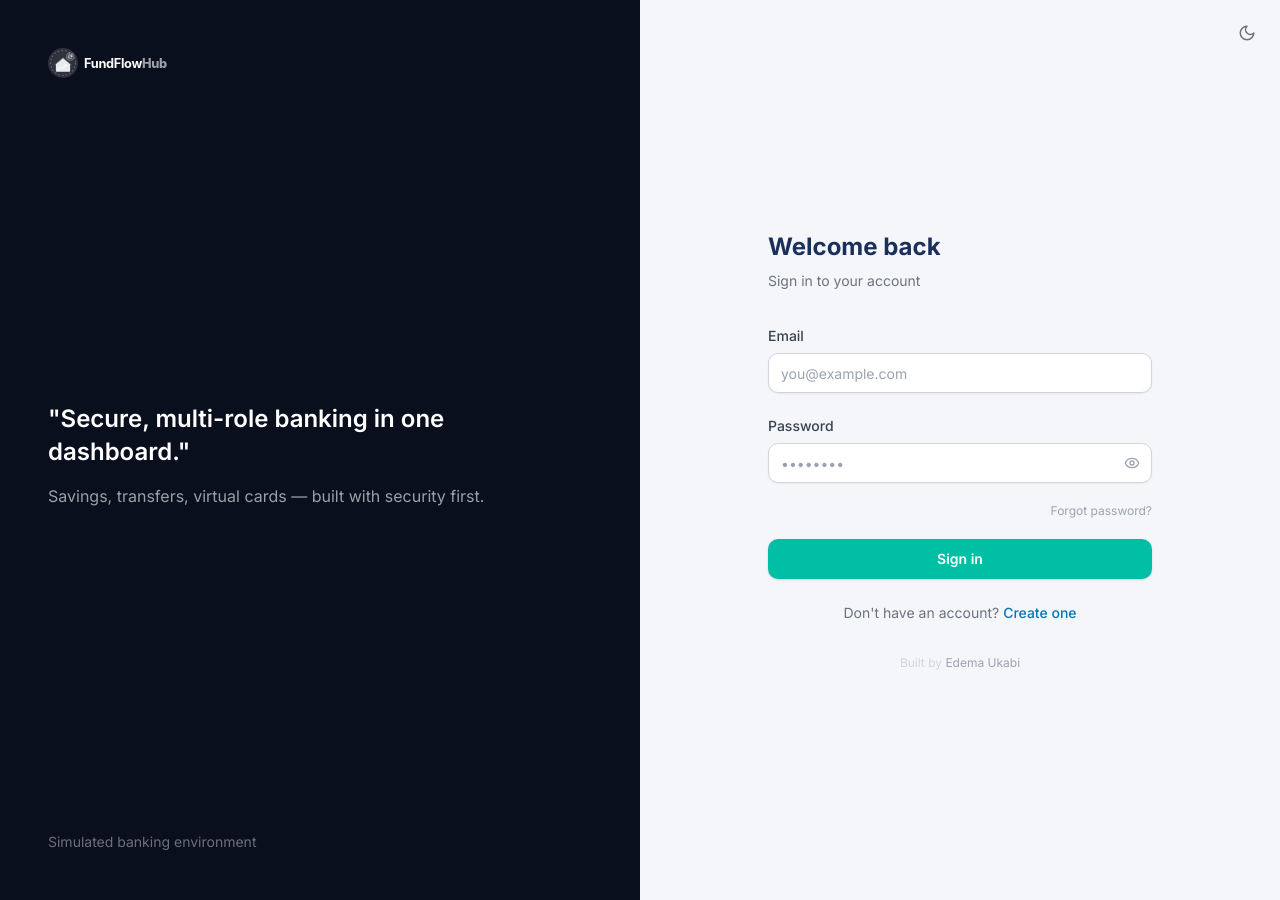
Test: LoginPage › shows email validation error for invalid email
This screenshot has width=1280, height=900.
In the field labelled "Email": (960, 373) [768, 353, 1152, 393], type "not-an-email"
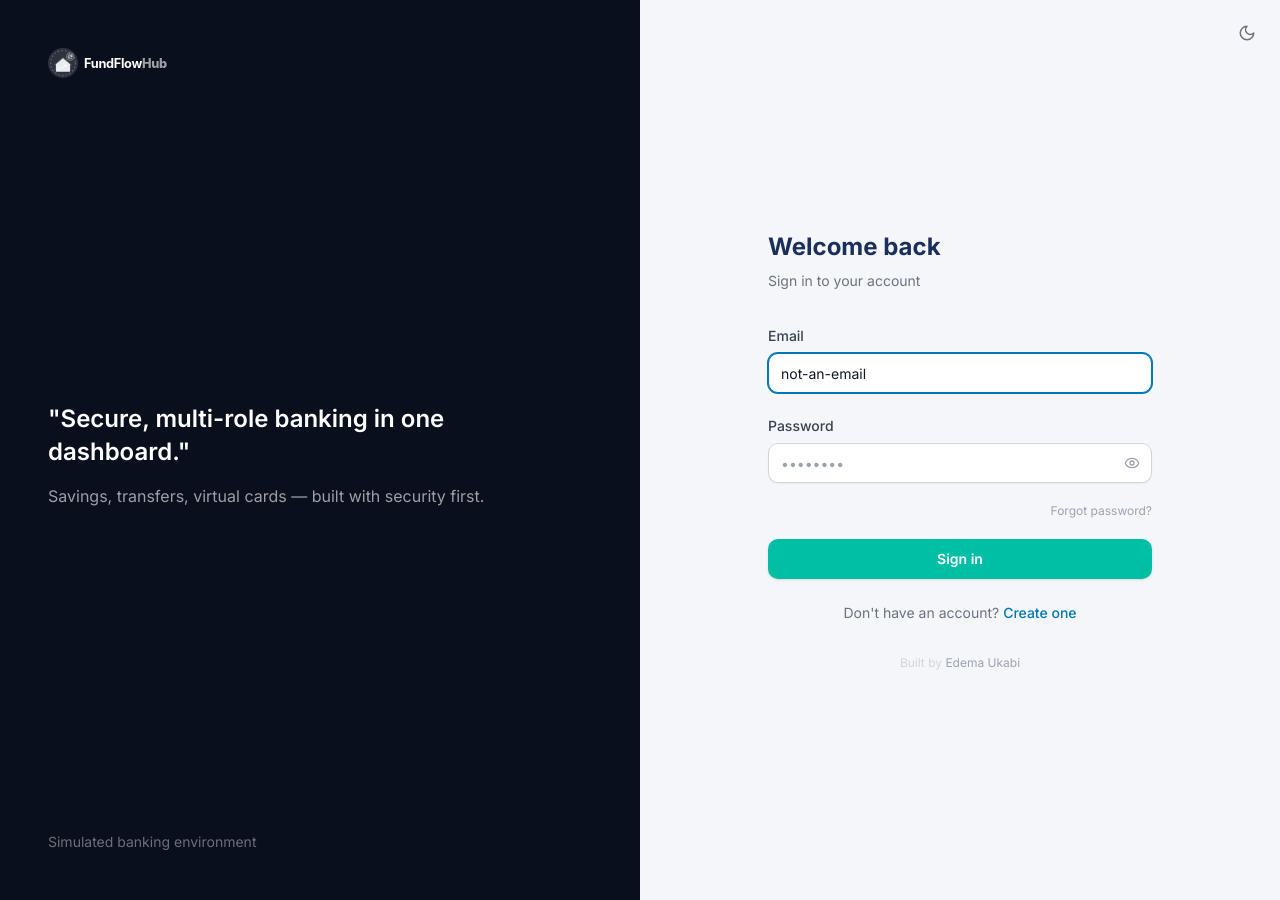
In the password field labelled "Password": (960, 463) [768, 443, 1152, 483], type "secret"
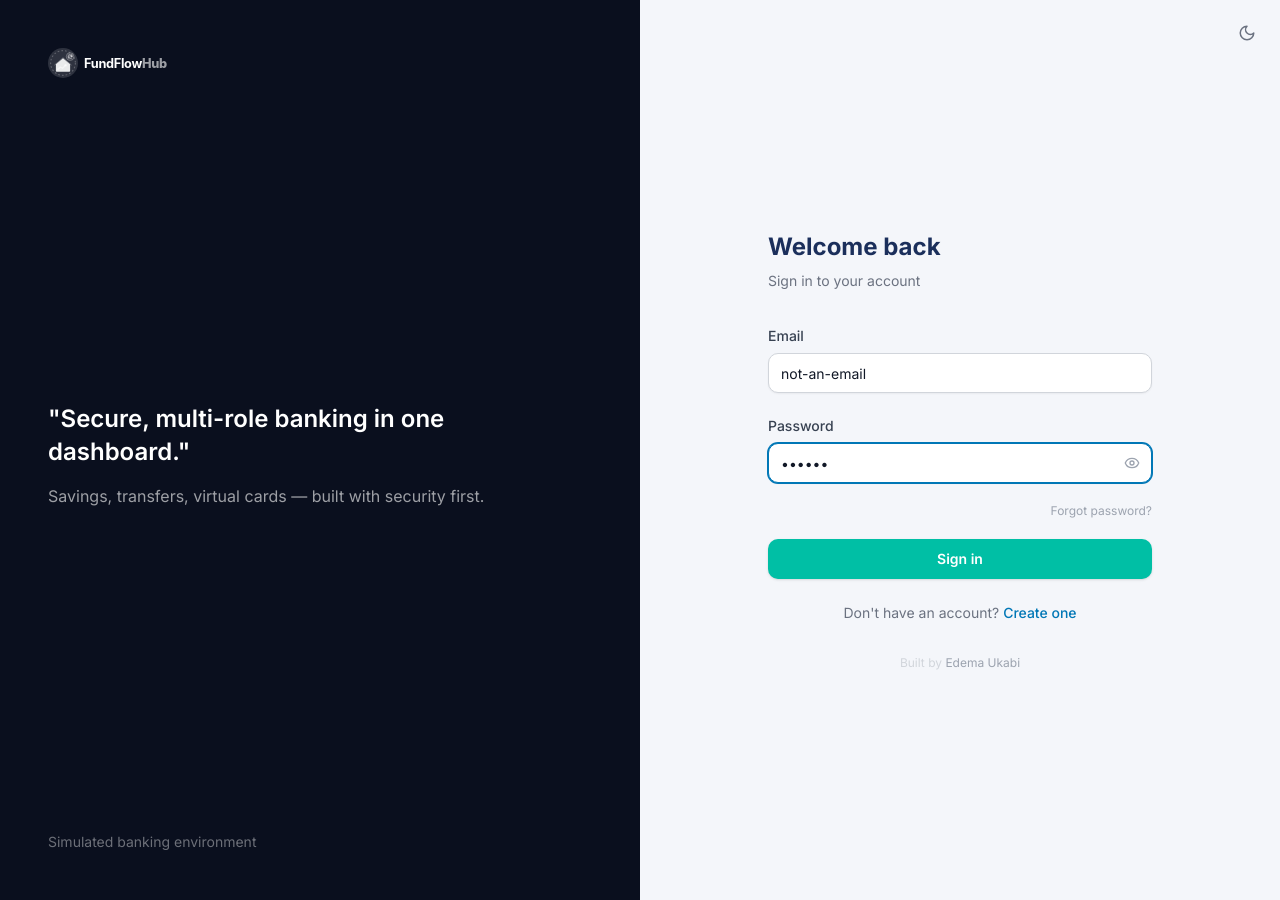
Click the button "Sign in": (960, 559) [768, 539, 1152, 579]
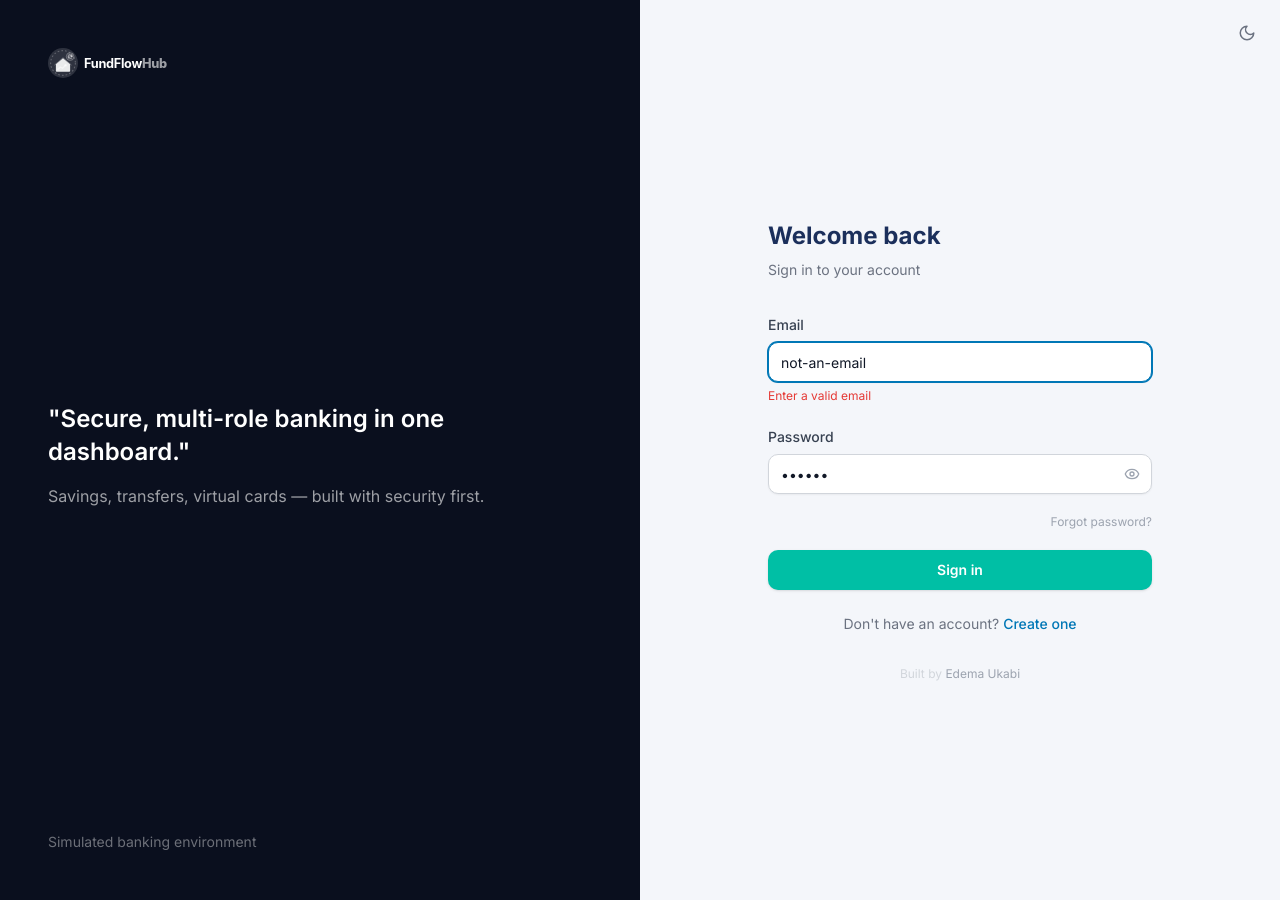
expect the text "Enter a valid email" is shown: met, box [768, 388, 871, 403]
